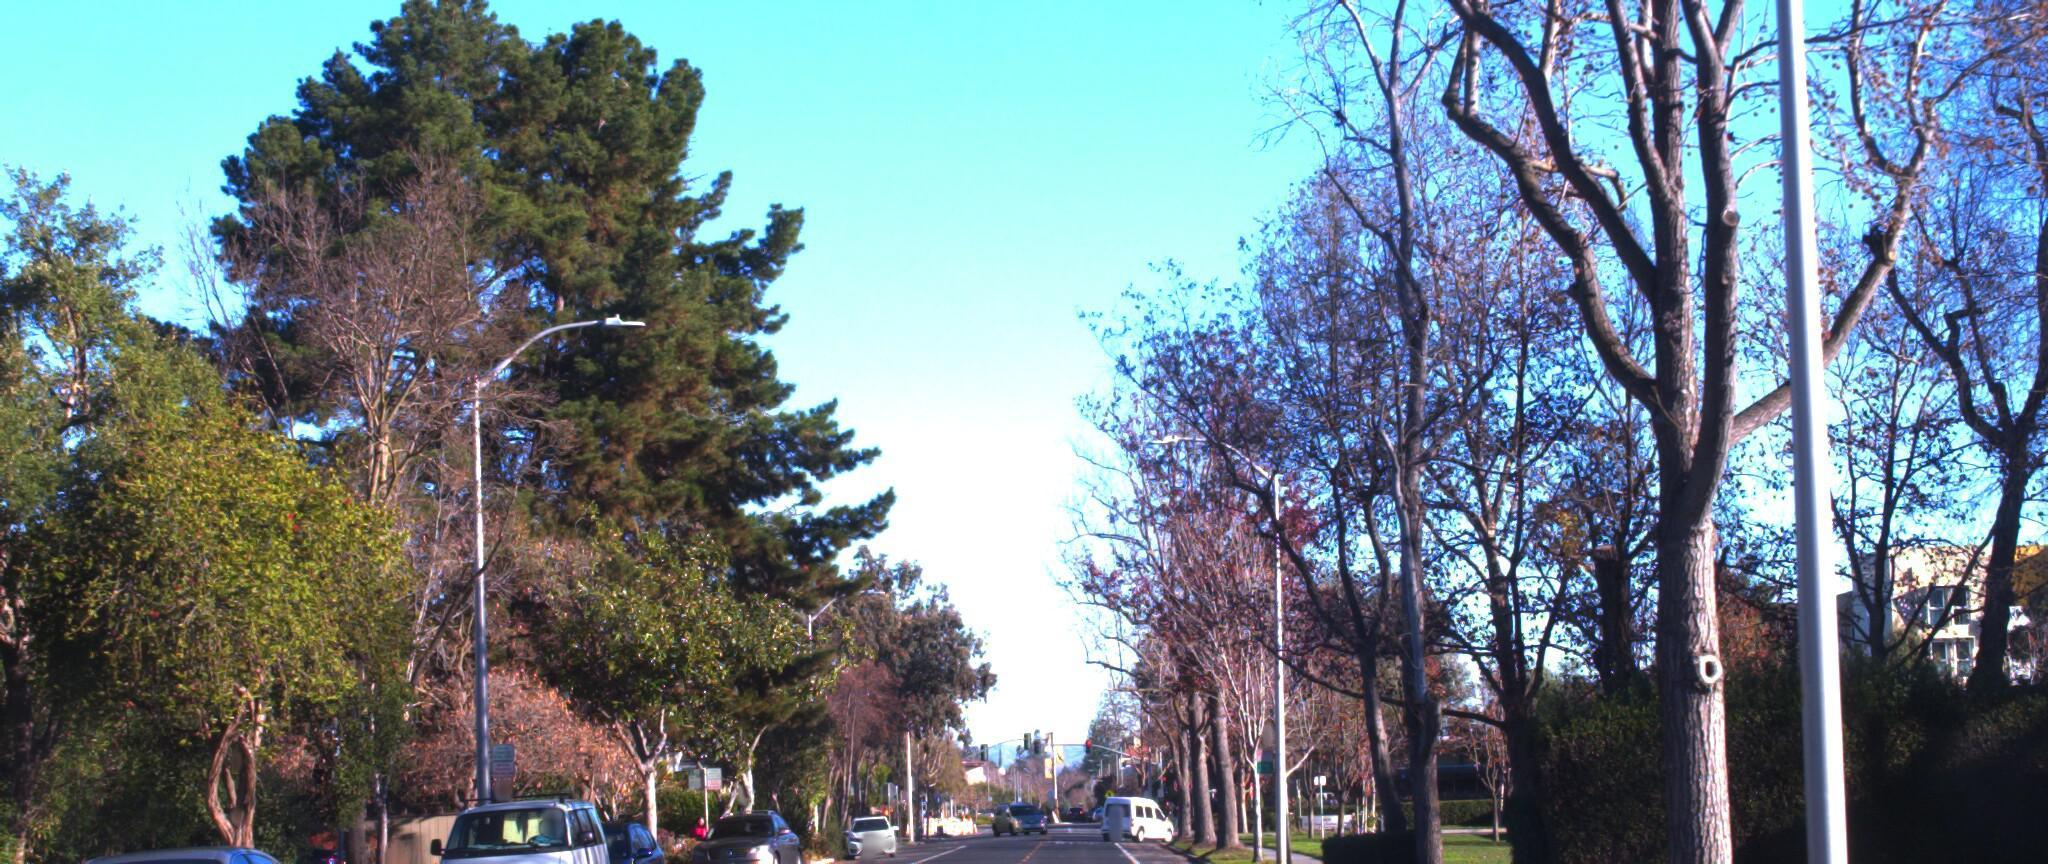car: (417, 767, 622, 864), (0, 824, 363, 864), (505, 792, 680, 864)
